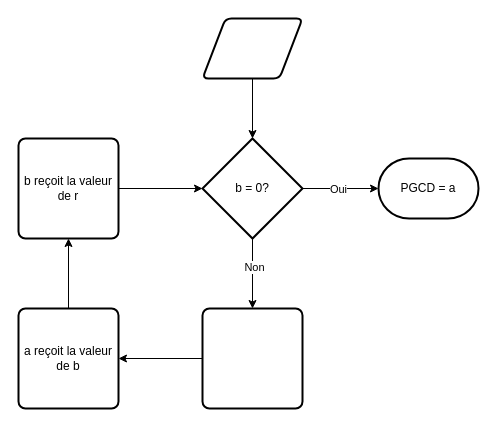
Some shapes in this 496 by 426 pixel diagram are drawn without their labels. The shapes that lost their labels are listed below. From the top down, each one's box as (x1, y1, x2, y2) in pixels, then its label:
(201, 17, 303, 79): Soit a et b deux entiers naturels
(201, 307, 303, 409): calculer r le reste de la division euclidienne de a par b
